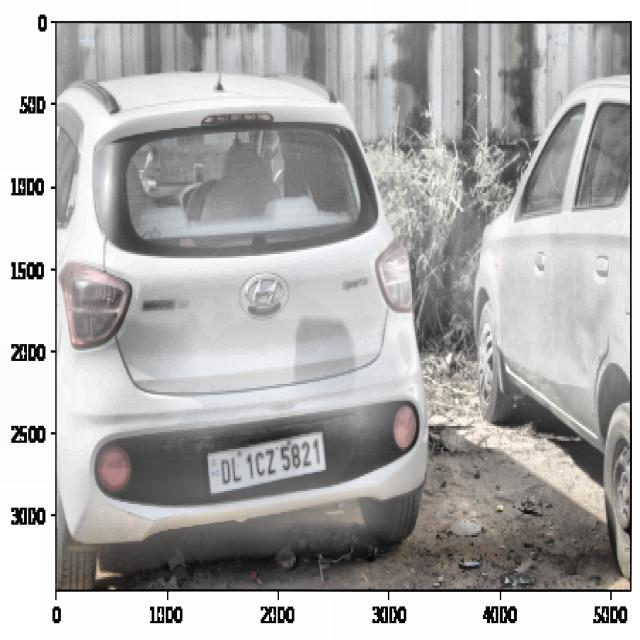license_plate: (215, 433, 324, 489)
